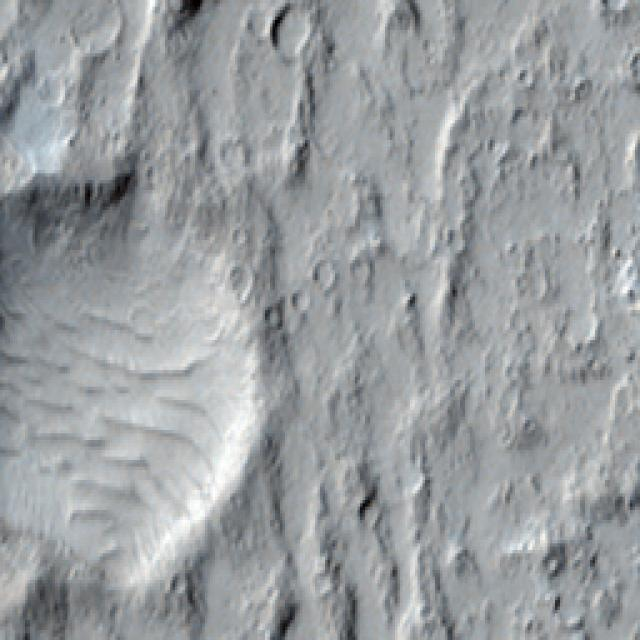Crater: (0, 126, 302, 640)
